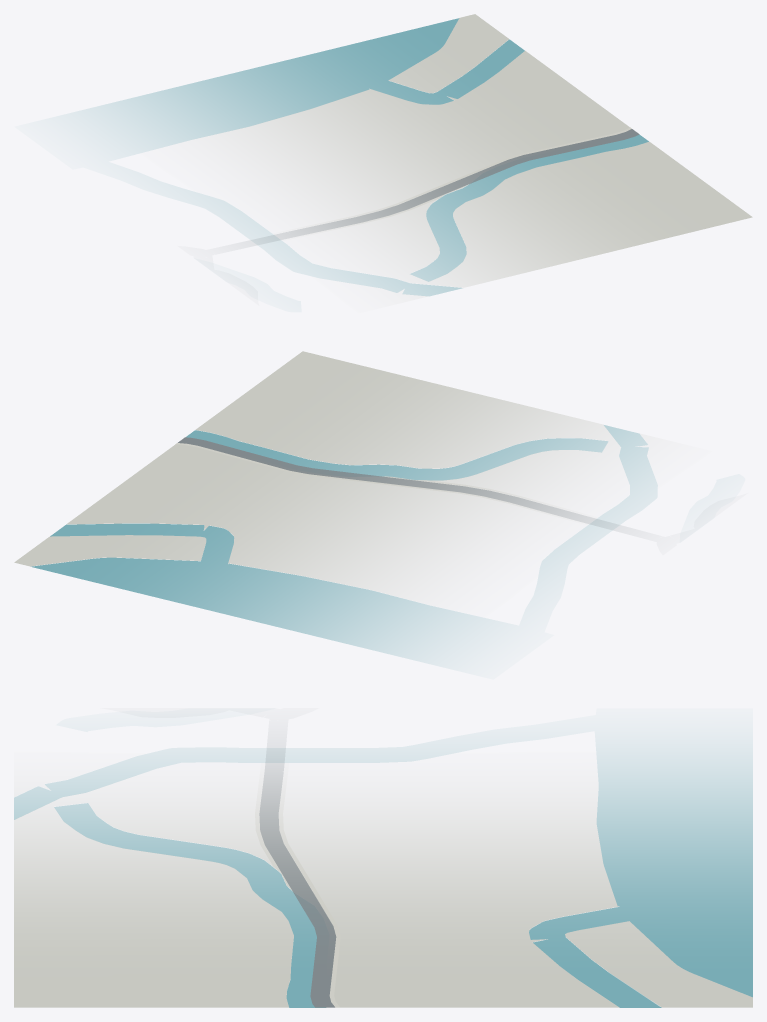
3 views of the same model, one above another, from view 1: azimuth 30°, elevation 25°; view 2: azimuth 150°, elevation 25°; view 3: azimuth 270°, elevation 25° (orthographic). The views are drawn at different scales.
Visible parts, largest first — view 1: city; view 2: city; view 3: city.
Boxes of the visible parts, left/top/right/bottom form: city: left=66, top=14, right=752, bottom=298; city: left=14, top=351, right=657, bottom=665; city: left=14, top=742, right=752, bottom=1007.
Size of the model in its own units: 479 by 0.4 by 500.
